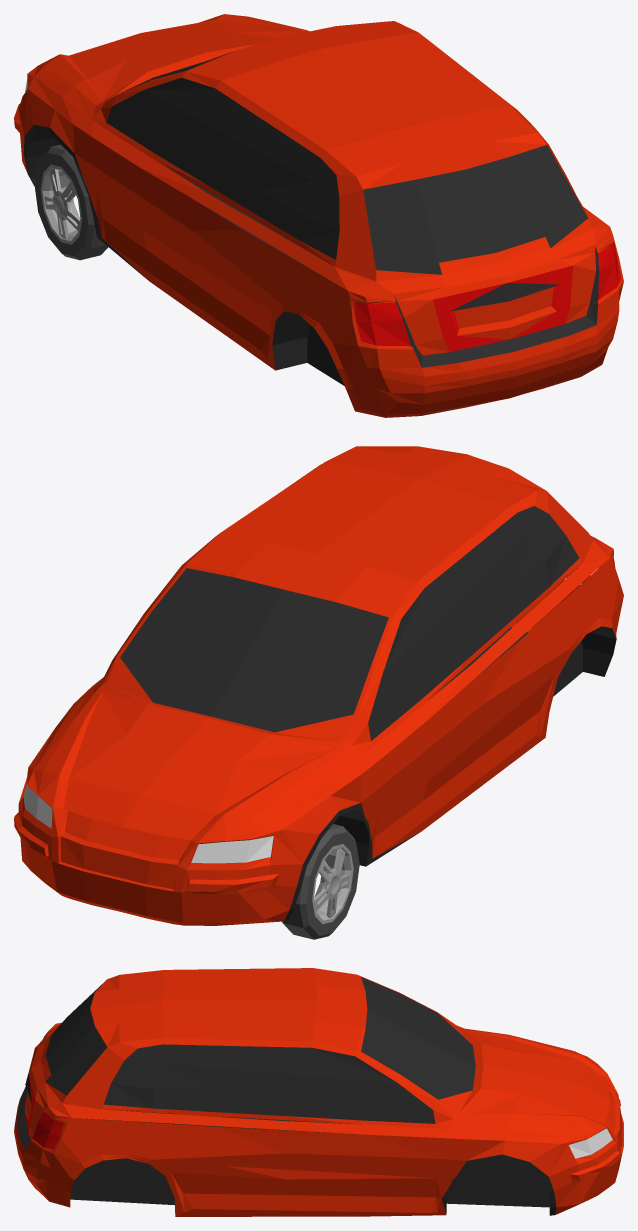
Rendered from WireframeCarTest.fbx.
3 renders of one model, top to bottom at view 1: azimuth 30°, elevation 25°; view 2: azimuth 150°, elevation 25°; view 3: azimuth 270°, elevation 25°, orthographic. The views are drawn at different scales.
Parts seen in each view (by area): view 1: Cube.007, Cylinder; view 2: Cube.007, Cylinder; view 3: Cube.007.
Boxes of the visible parts, x1,y1,x2,y2 form: Cube.007: (14, 14, 623, 417); Cylinder: (34, 144, 108, 260); Cube.007: (14, 446, 623, 925); Cylinder: (282, 824, 359, 939); Cube.007: (14, 968, 623, 1216).
Size of the model in its own units: 222 by 192 by 533.
